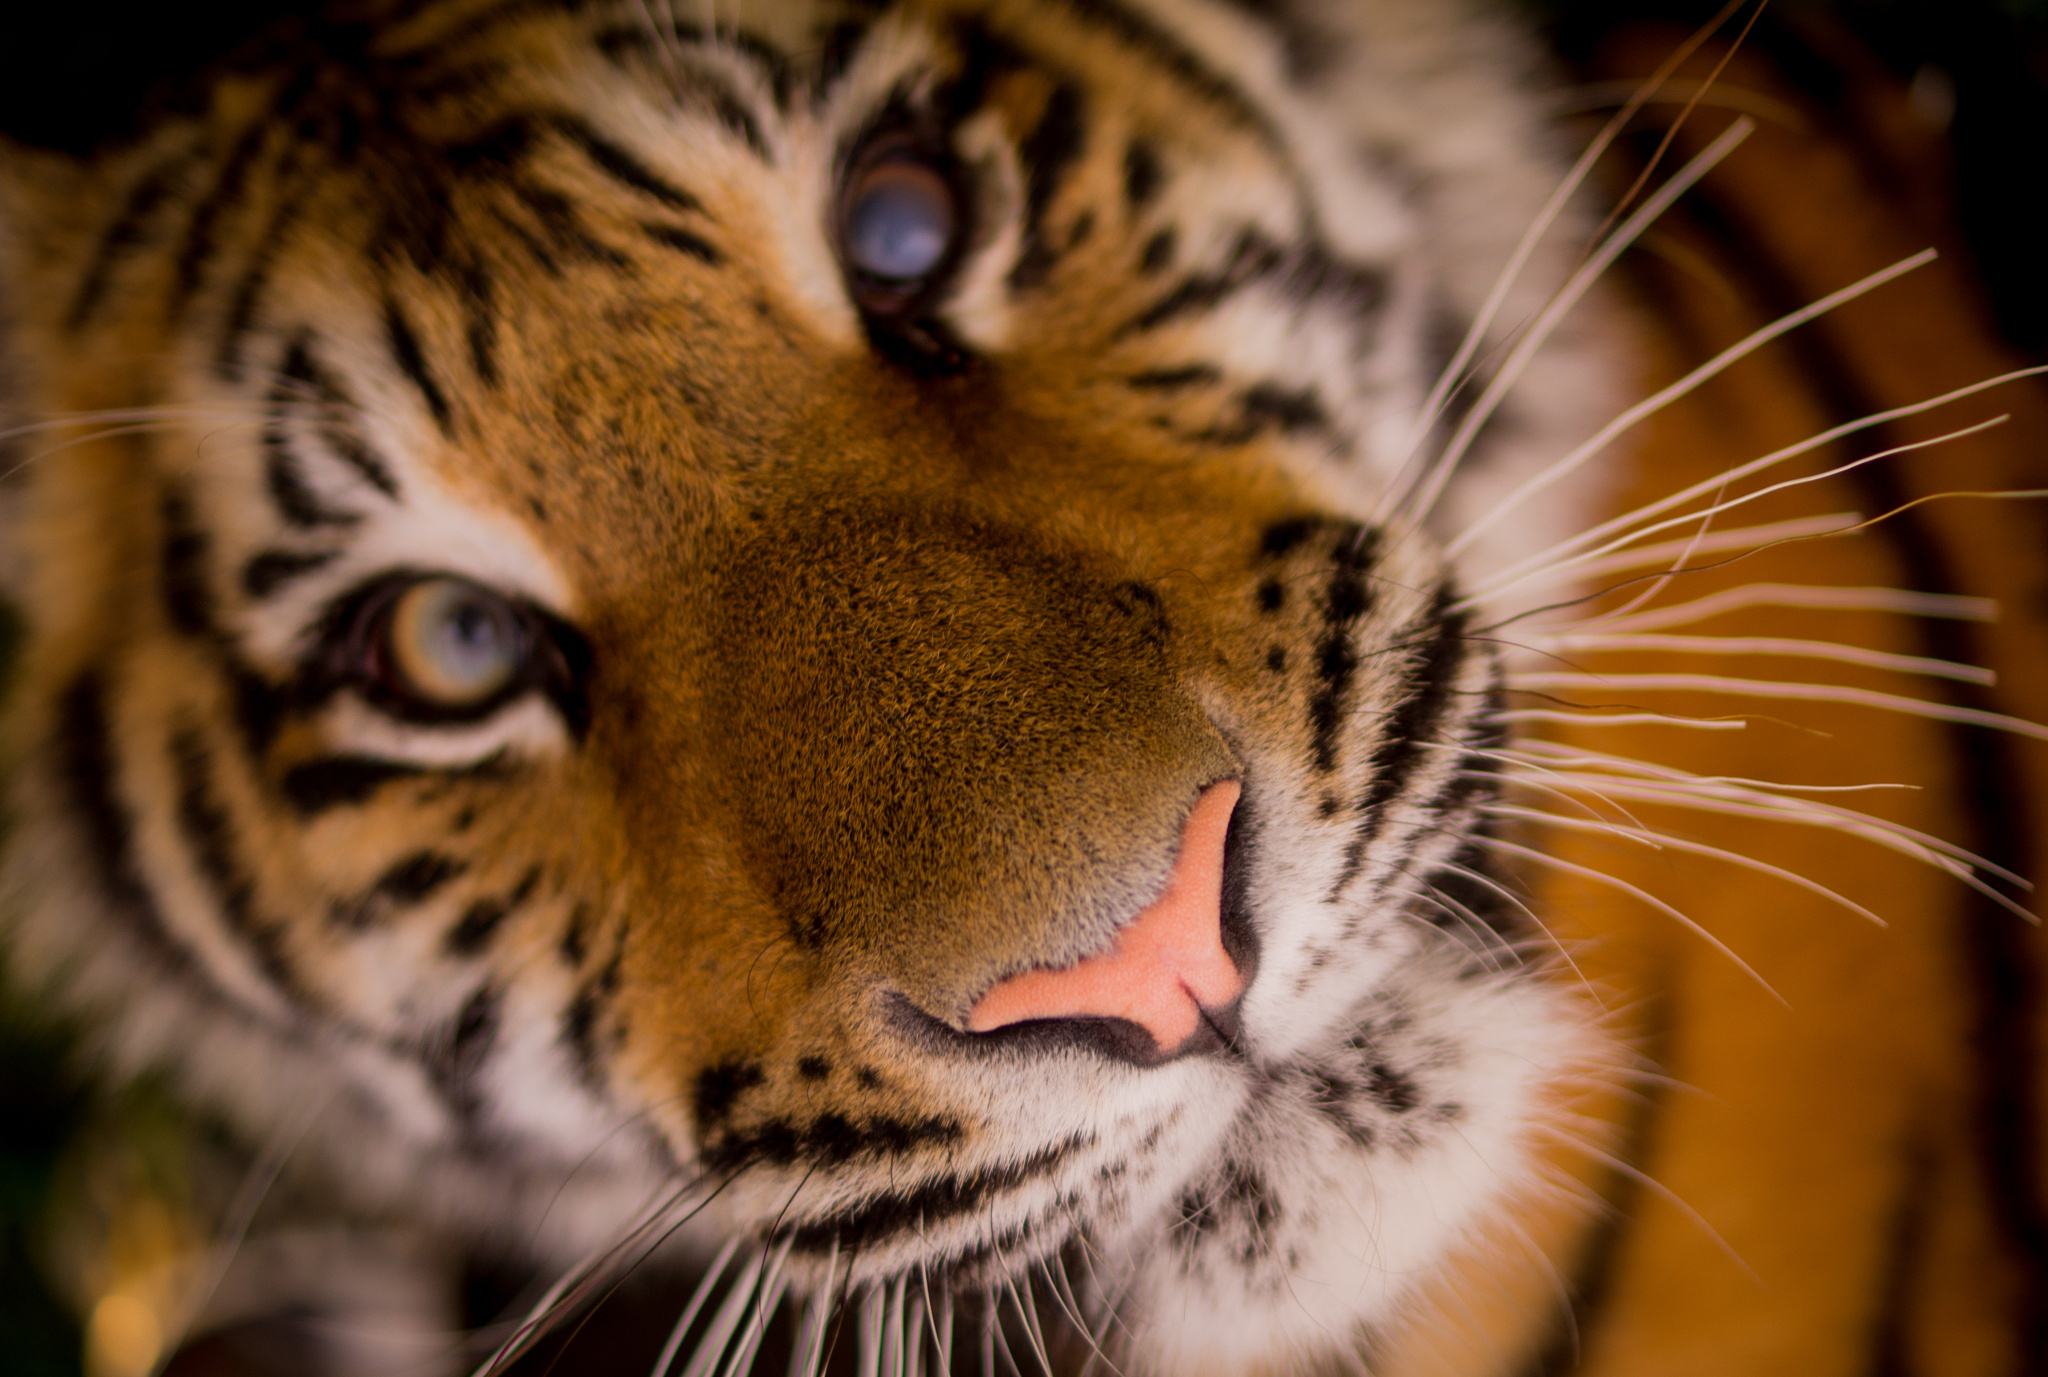tiger: (74, 95, 1793, 1299)
